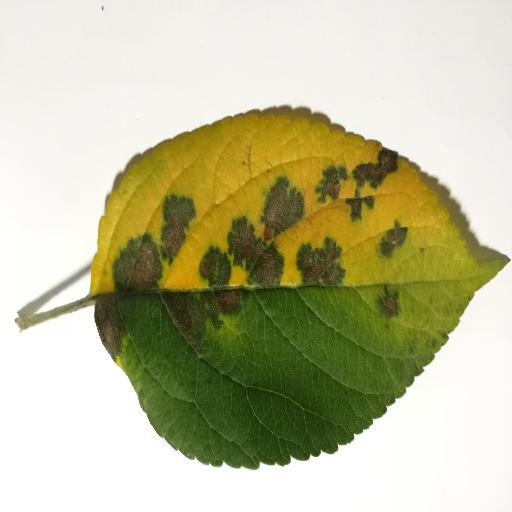Brown_Spot: (91, 173, 429, 344)
